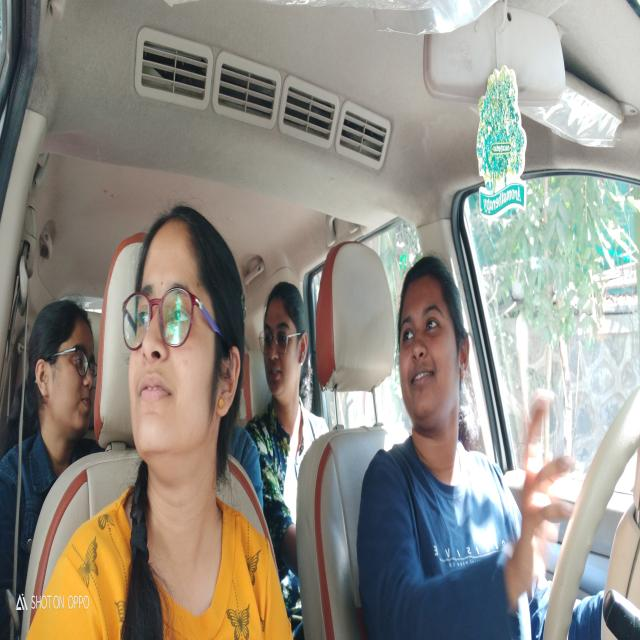LeftRight: (398, 253, 471, 450)
person: (126, 197, 249, 485), (28, 294, 98, 456), (258, 275, 311, 404)
